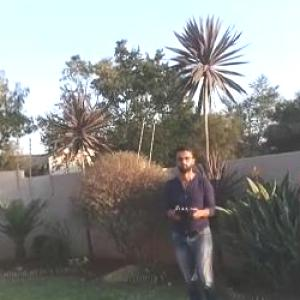follow: (156, 140, 230, 299)
